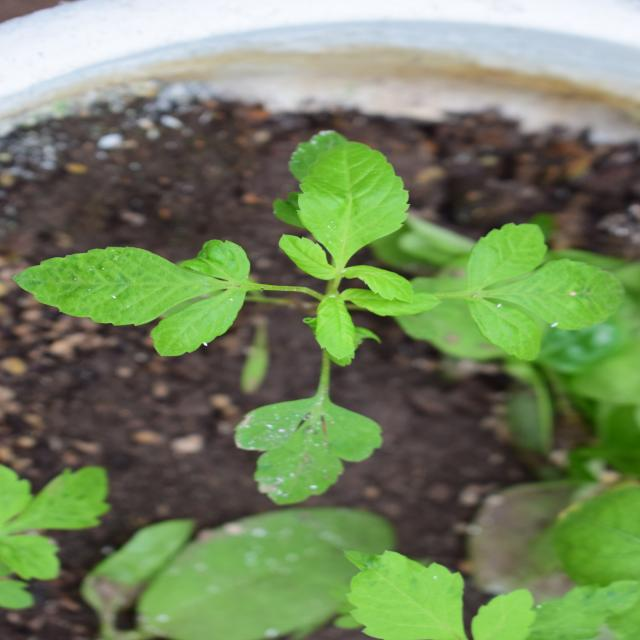Bidens pilosa: (139, 30, 500, 590)
